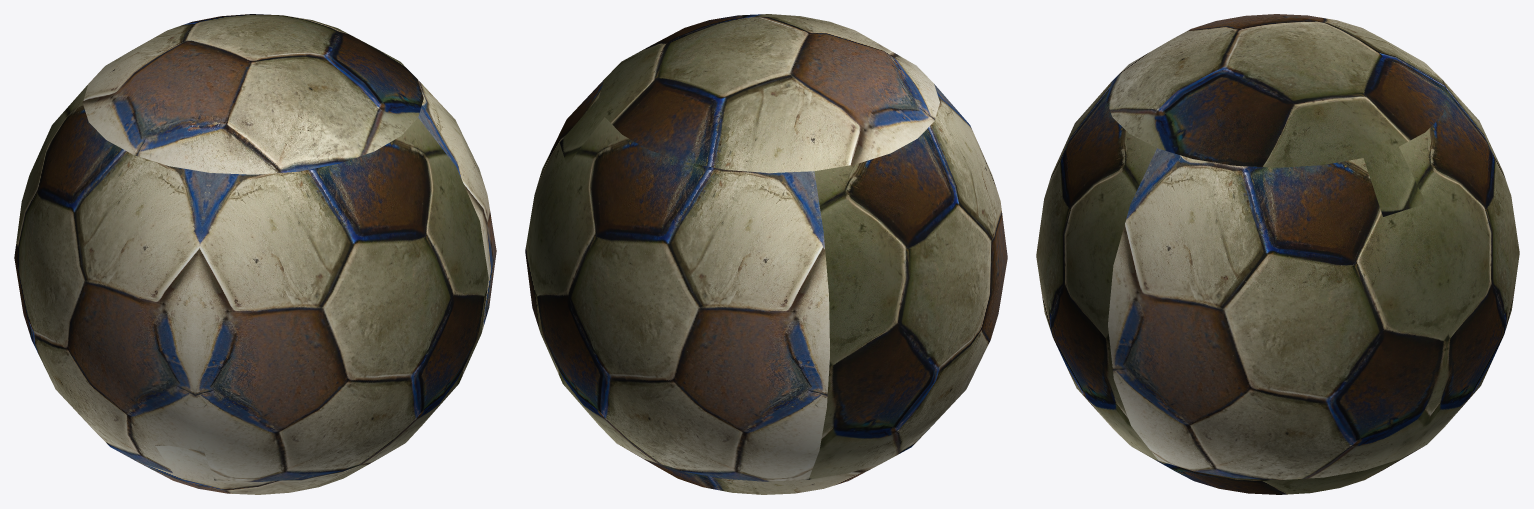
File: SM_Ball02.fbx
The picture shows the model from 3 angles, left to right: view 1: azimuth 30°, elevation 25°; view 2: azimuth 150°, elevation 25°; view 3: azimuth 270°, elevation 25°; orthographic projection.
Visible parts, largest first — view 1: SM_Ball02; view 2: SM_Ball02; view 3: SM_Ball02.
Part boxes in pixels (left/top/right/bottom): SM_Ball02: left=14, top=14, right=496, bottom=494; SM_Ball02: left=525, top=14, right=1007, bottom=494; SM_Ball02: left=1036, top=14, right=1519, bottom=494.
Size of the model in its own units: 97.17 by 97.17 by 97.18.
